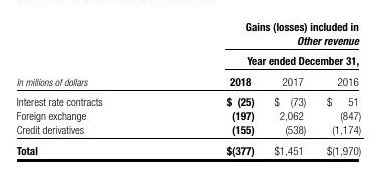table: (0, 0, 376, 176)
